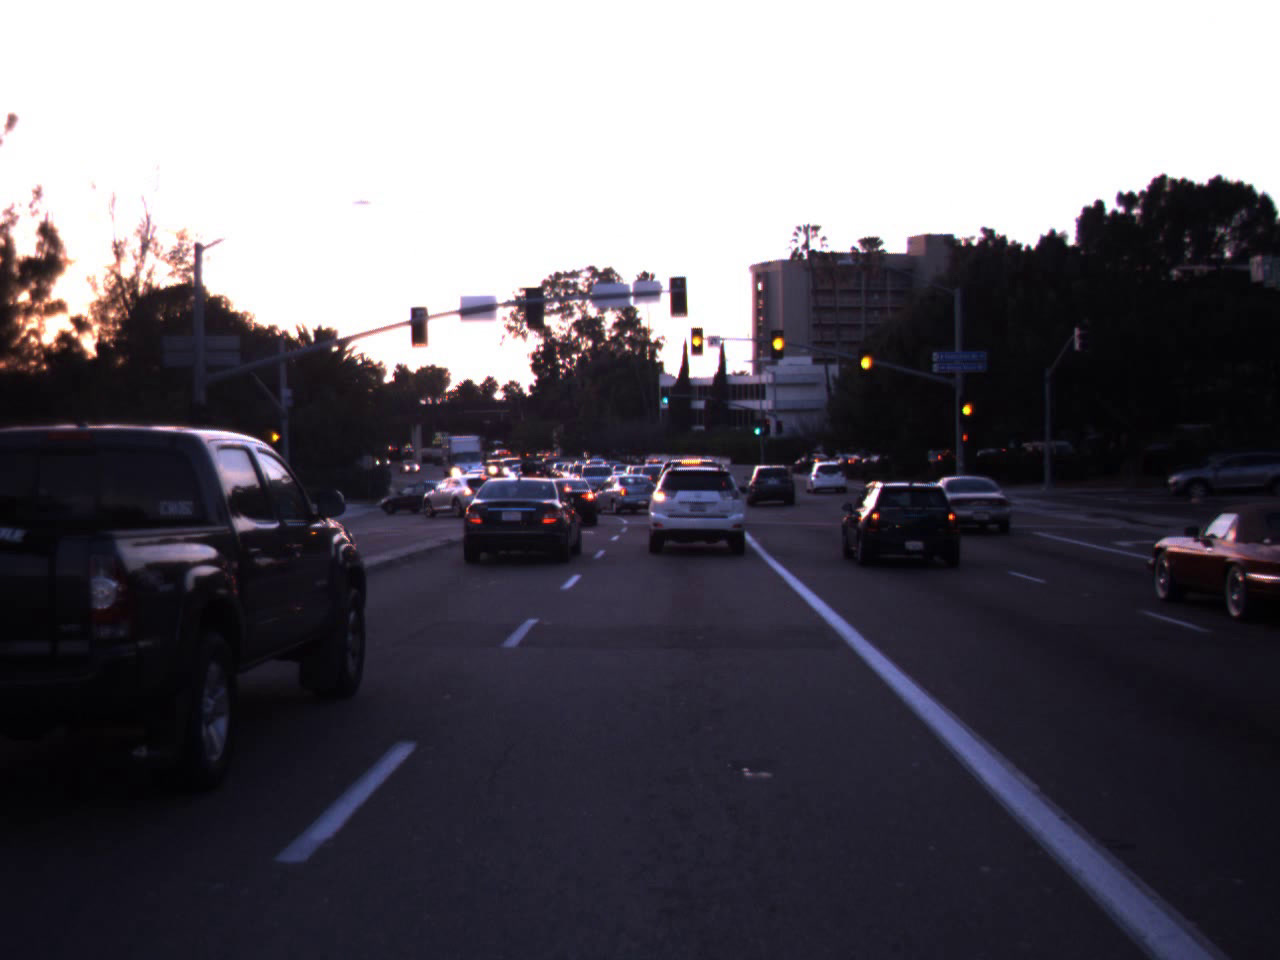go: (751, 411, 763, 436), (659, 384, 671, 404)
warning: (764, 314, 791, 368), (681, 316, 714, 361), (262, 412, 289, 457), (853, 338, 877, 383), (958, 390, 976, 426)
